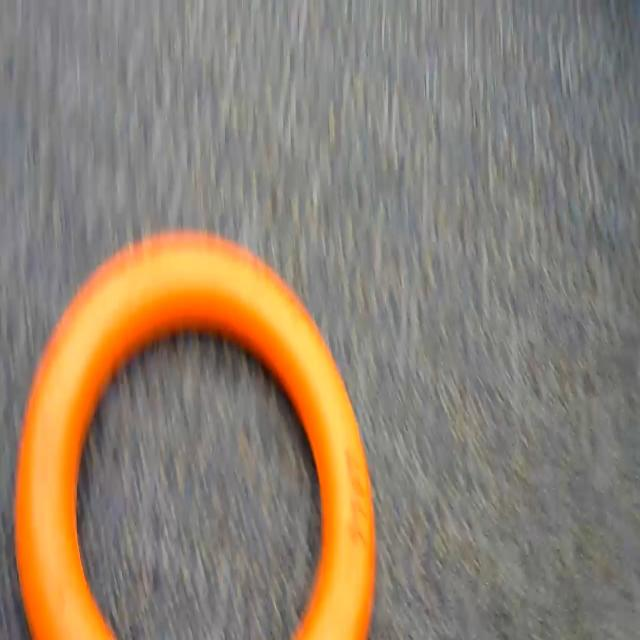note: (11, 218, 384, 640)
